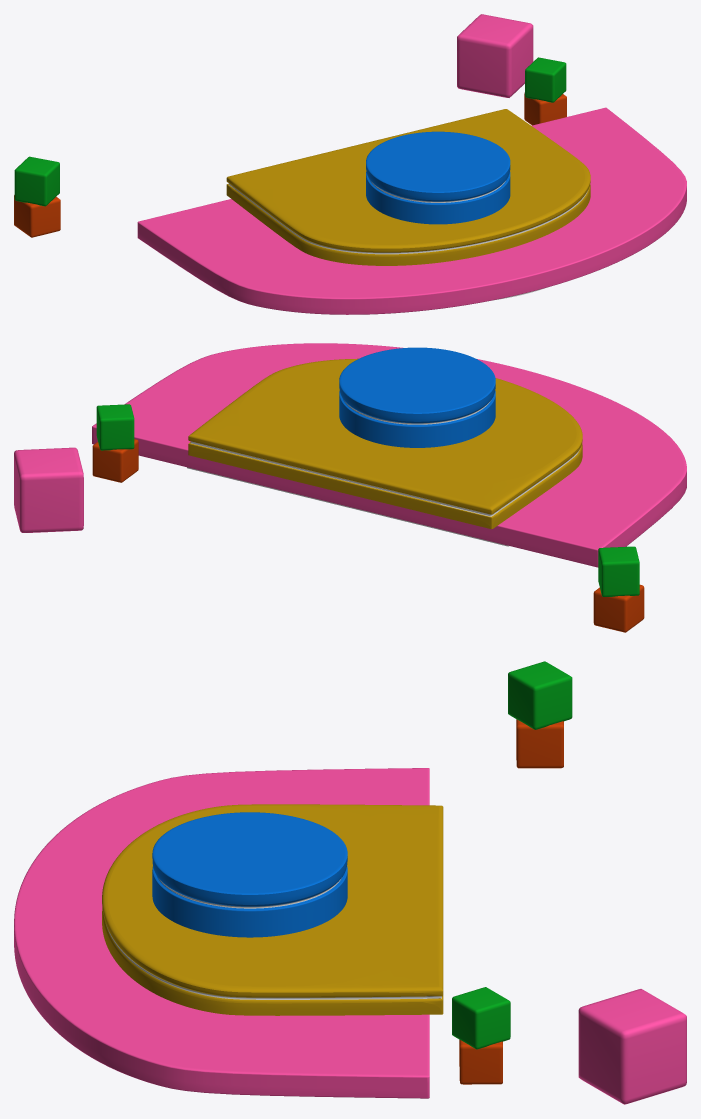
File: WinnersPodiumStratched.fbx
3 views of the same model, one above another, from view 1: azimuth 30°, elevation 25°; view 2: azimuth 150°, elevation 25°; view 3: azimuth 270°, elevation 25° (orthographic). The views are drawn at different scales.
Parts seen in each view (by area): view 1: Object_24, Object_21, Object_18, Object_16, Object_10, Object_14, Object_8, Object_12, Object_22; view 2: Object_24, Object_21, Object_18, Object_16, Object_10, Object_8, Object_14, Object_12, Object_22, Object_25; view 3: Object_24, Object_21, Object_18, Object_16, Object_10, Object_14, Object_8, Object_12, Object_22.
Boxes of the visible parts, x1=… form: Object_24: x1=137, y1=107, x2=686, y2=314; Object_21: x1=226, y1=109, x2=590, y2=265; Object_18: x1=366, y1=131, x2=510, y2=224; Object_16: x1=457, y1=14, x2=533, y2=97; Object_10: x1=14, y1=156, x2=59, y2=206; Object_14: x1=525, y1=57, x2=566, y2=102; Object_8: x1=14, y1=195, x2=60, y2=237; Object_12: x1=524, y1=92, x2=566, y2=125; Object_22: x1=228, y1=183, x2=587, y2=254; Object_24: x1=92, y1=343, x2=686, y2=567; Object_21: x1=188, y1=358, x2=582, y2=529; Object_18: x1=339, y1=347, x2=495, y2=447; Object_16: x1=14, y1=447, x2=83, y2=532; Object_10: x1=598, y1=546, x2=639, y2=596; Object_8: x1=593, y1=584, x2=644, y2=632; Object_14: x1=96, y1=404, x2=134, y2=450; Object_12: x1=92, y1=439, x2=138, y2=482; Object_22: x1=190, y1=441, x2=579, y2=516; Object_25: x1=187, y1=467, x2=509, y2=546; Object_24: x1=14, y1=768, x2=429, y2=1098; Object_21: x1=102, y1=804, x2=443, y2=1015; Object_18: x1=152, y1=812, x2=347, y2=937; Object_16: x1=578, y1=989, x2=686, y2=1104; Object_10: x1=508, y1=661, x2=572, y2=729; Object_14: x1=452, y1=987, x2=510, y2=1049; Object_8: x1=516, y1=719, x2=563, y2=768; Object_12: x1=459, y1=1039, x2=502, y2=1084; Object_22: x1=106, y1=925, x2=441, y2=999.
Size of the model in its own units: 847 by 109 by 666.
